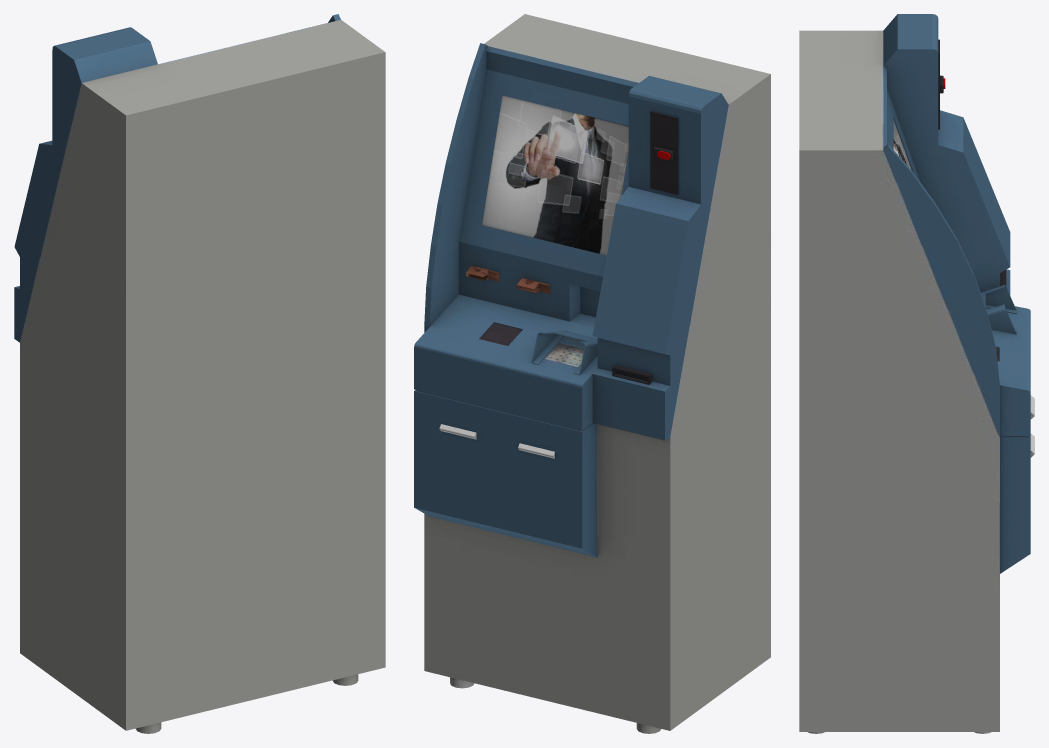
3 renders of one model, left to right at view 1: azimuth 30°, elevation 25°; view 2: azimuth 150°, elevation 25°; view 3: azimuth 270°, elevation 25°, orthographic. The views are drawn at different scales.
Parts seen in each view (by area): view 1: ATM机; view 2: ATM机; view 3: ATM机.
Boxes of the visible parts, x1=… form: ATM机: x1=14, y1=14, x2=385, y2=733; ATM机: x1=414, y1=14, x2=770, y2=733; ATM机: x1=799, y1=14, x2=1034, y2=733.
Size of the model in its own units: 0.918 by 2.18 by 0.7624.
Materials: 1 (1 with a texture image).
